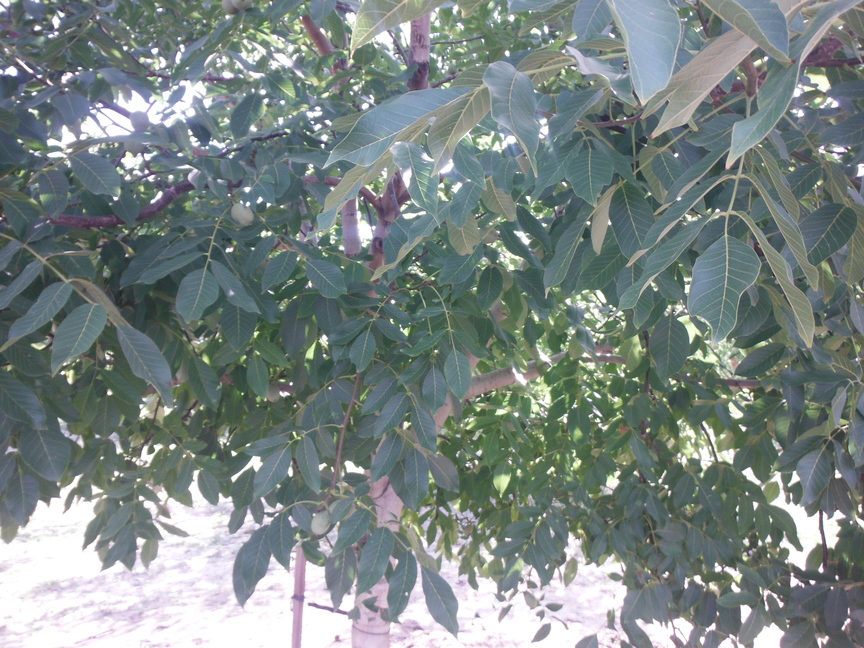walnut: (226, 197, 256, 229), (305, 505, 334, 536), (325, 495, 358, 520), (127, 105, 154, 133), (120, 135, 146, 161), (478, 223, 500, 246), (264, 377, 282, 404), (231, 0, 254, 12), (219, 0, 236, 16), (445, 60, 458, 76)
